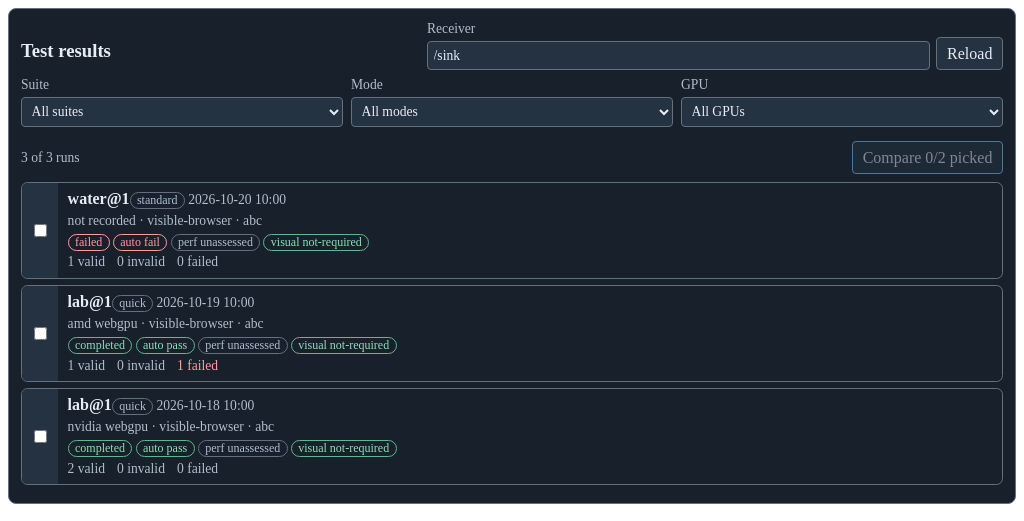
Test case: TestResultsComponent › filters by suite, mode and GPU
Step 1. Select "lab" in the dropdown labelled "Suite" → (182, 112), box [21,97,343,127]
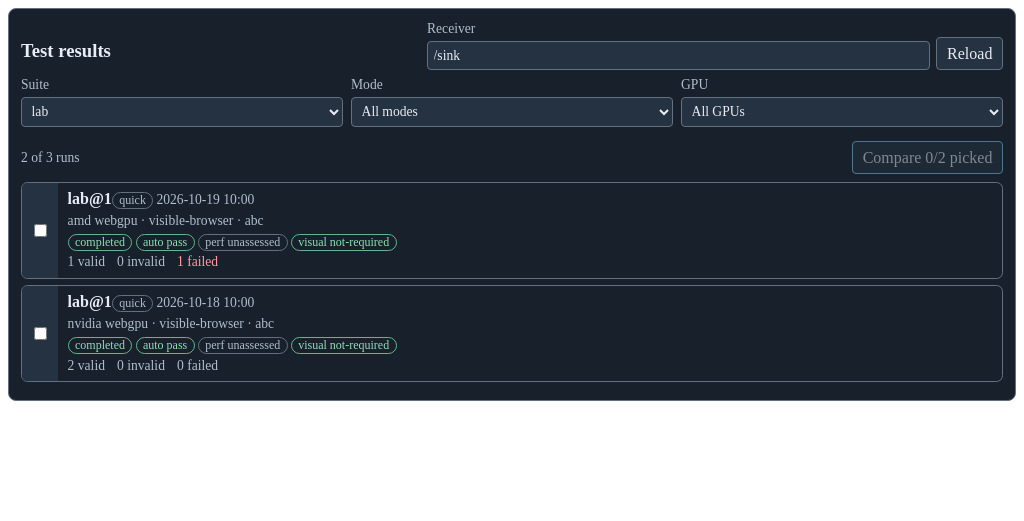
Check: the number of list items with class "run" is 2, box [21,182,1003,279]; [21,285,1003,382]
Step 2. Select "amd webgpu" in the dropdown labelled "GPU" → (842, 112), box [681,97,1003,127]
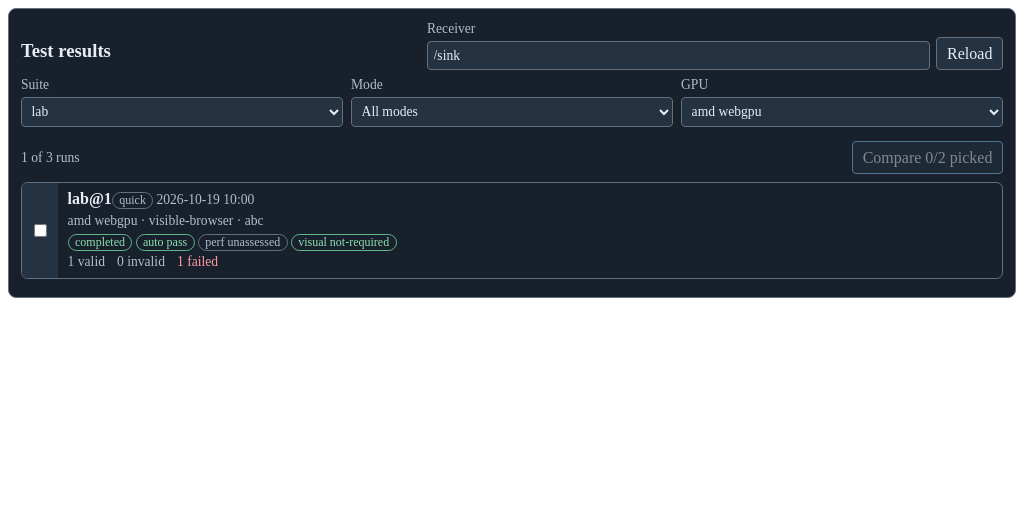
Check: the number of list items with class "run" is 1, box [21,182,1003,279]
Check: the text "1 of 3 runs" is shown, box [21,150,80,166]
